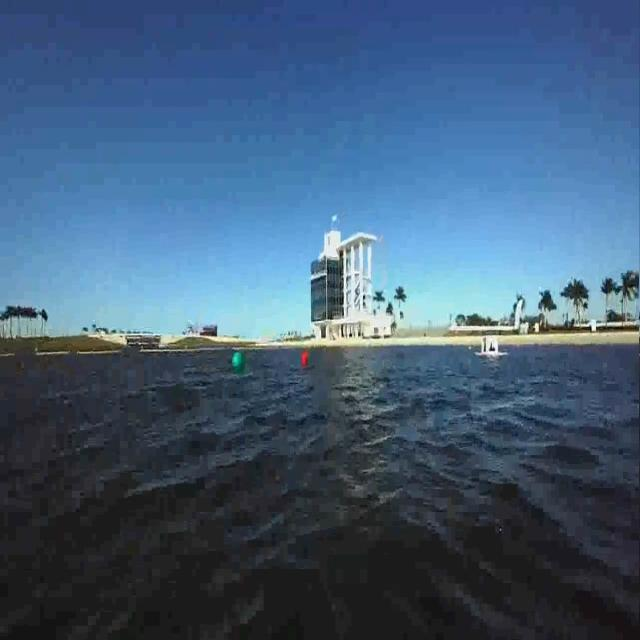green-buoy: (232, 351, 246, 372)
red-column-buoy: (303, 350, 310, 369)
